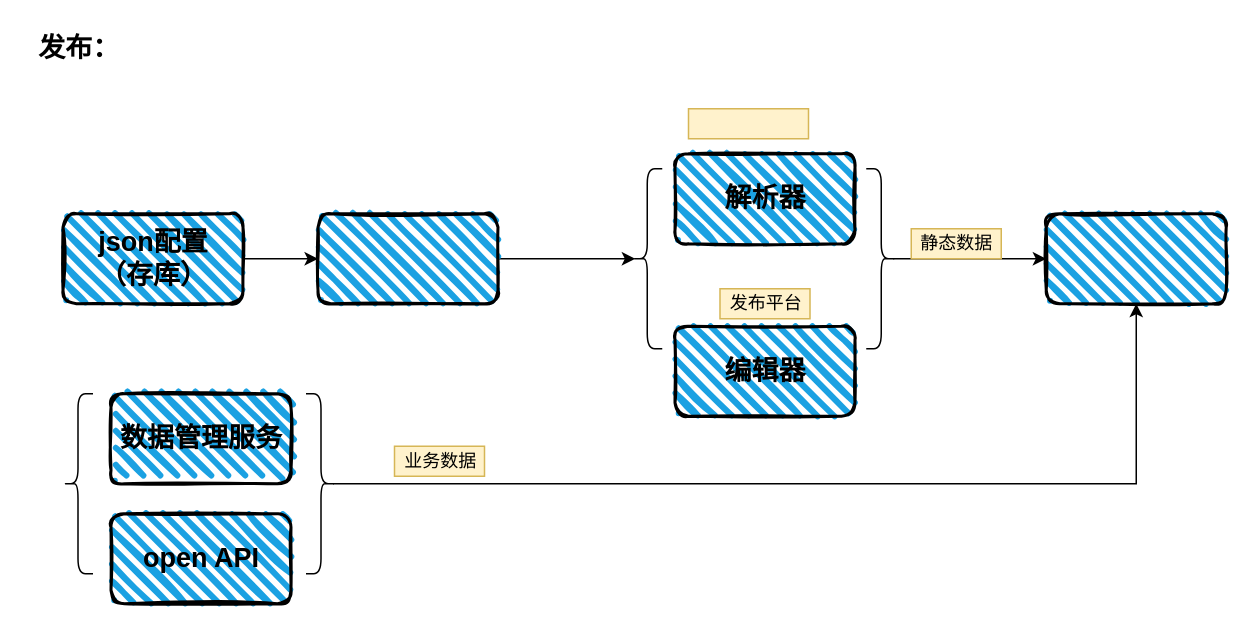
Some shapes in this 1253 by 630 pixel diagram are drawn without their labels. Here are the shapes that lost their labels. From the top down, the centre of each, then its label:
point (747, 123): 仅发布大屏
point (407, 258): node服务
point (1135, 258): 可视化界面
